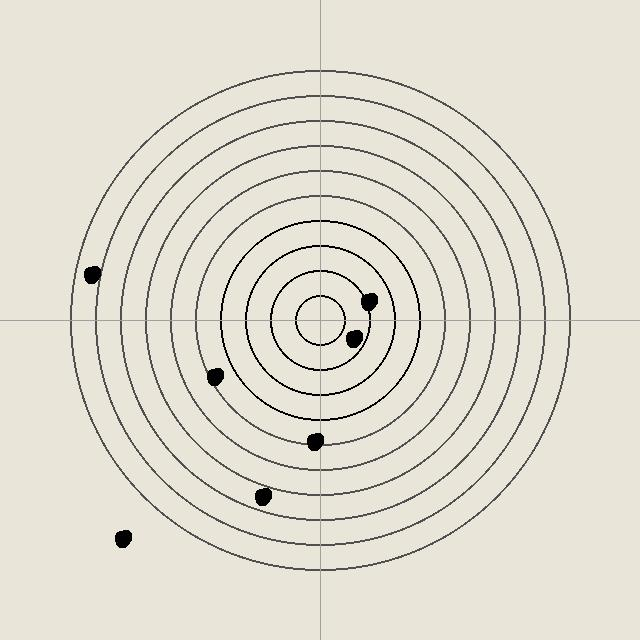random_scatter: (112, 528, 132, 548), (304, 431, 324, 451), (358, 291, 378, 311), (81, 264, 101, 284), (343, 328, 363, 348), (252, 486, 272, 506), (204, 366, 224, 386)
